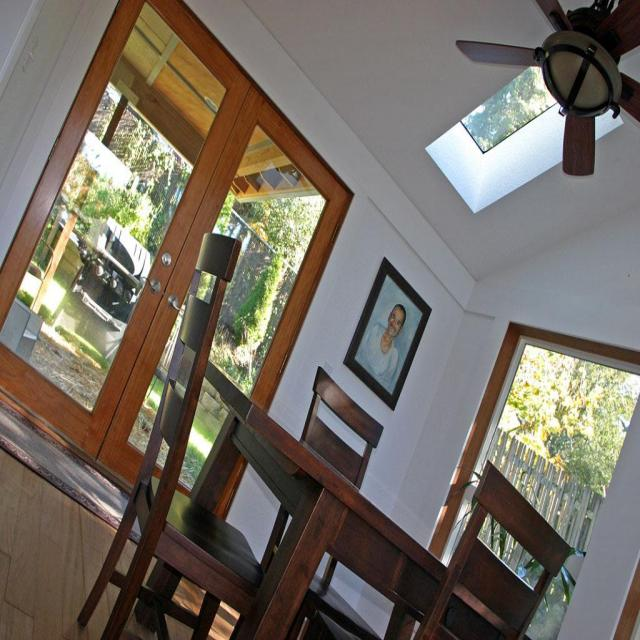Bulb: (455, 0, 639, 175)
